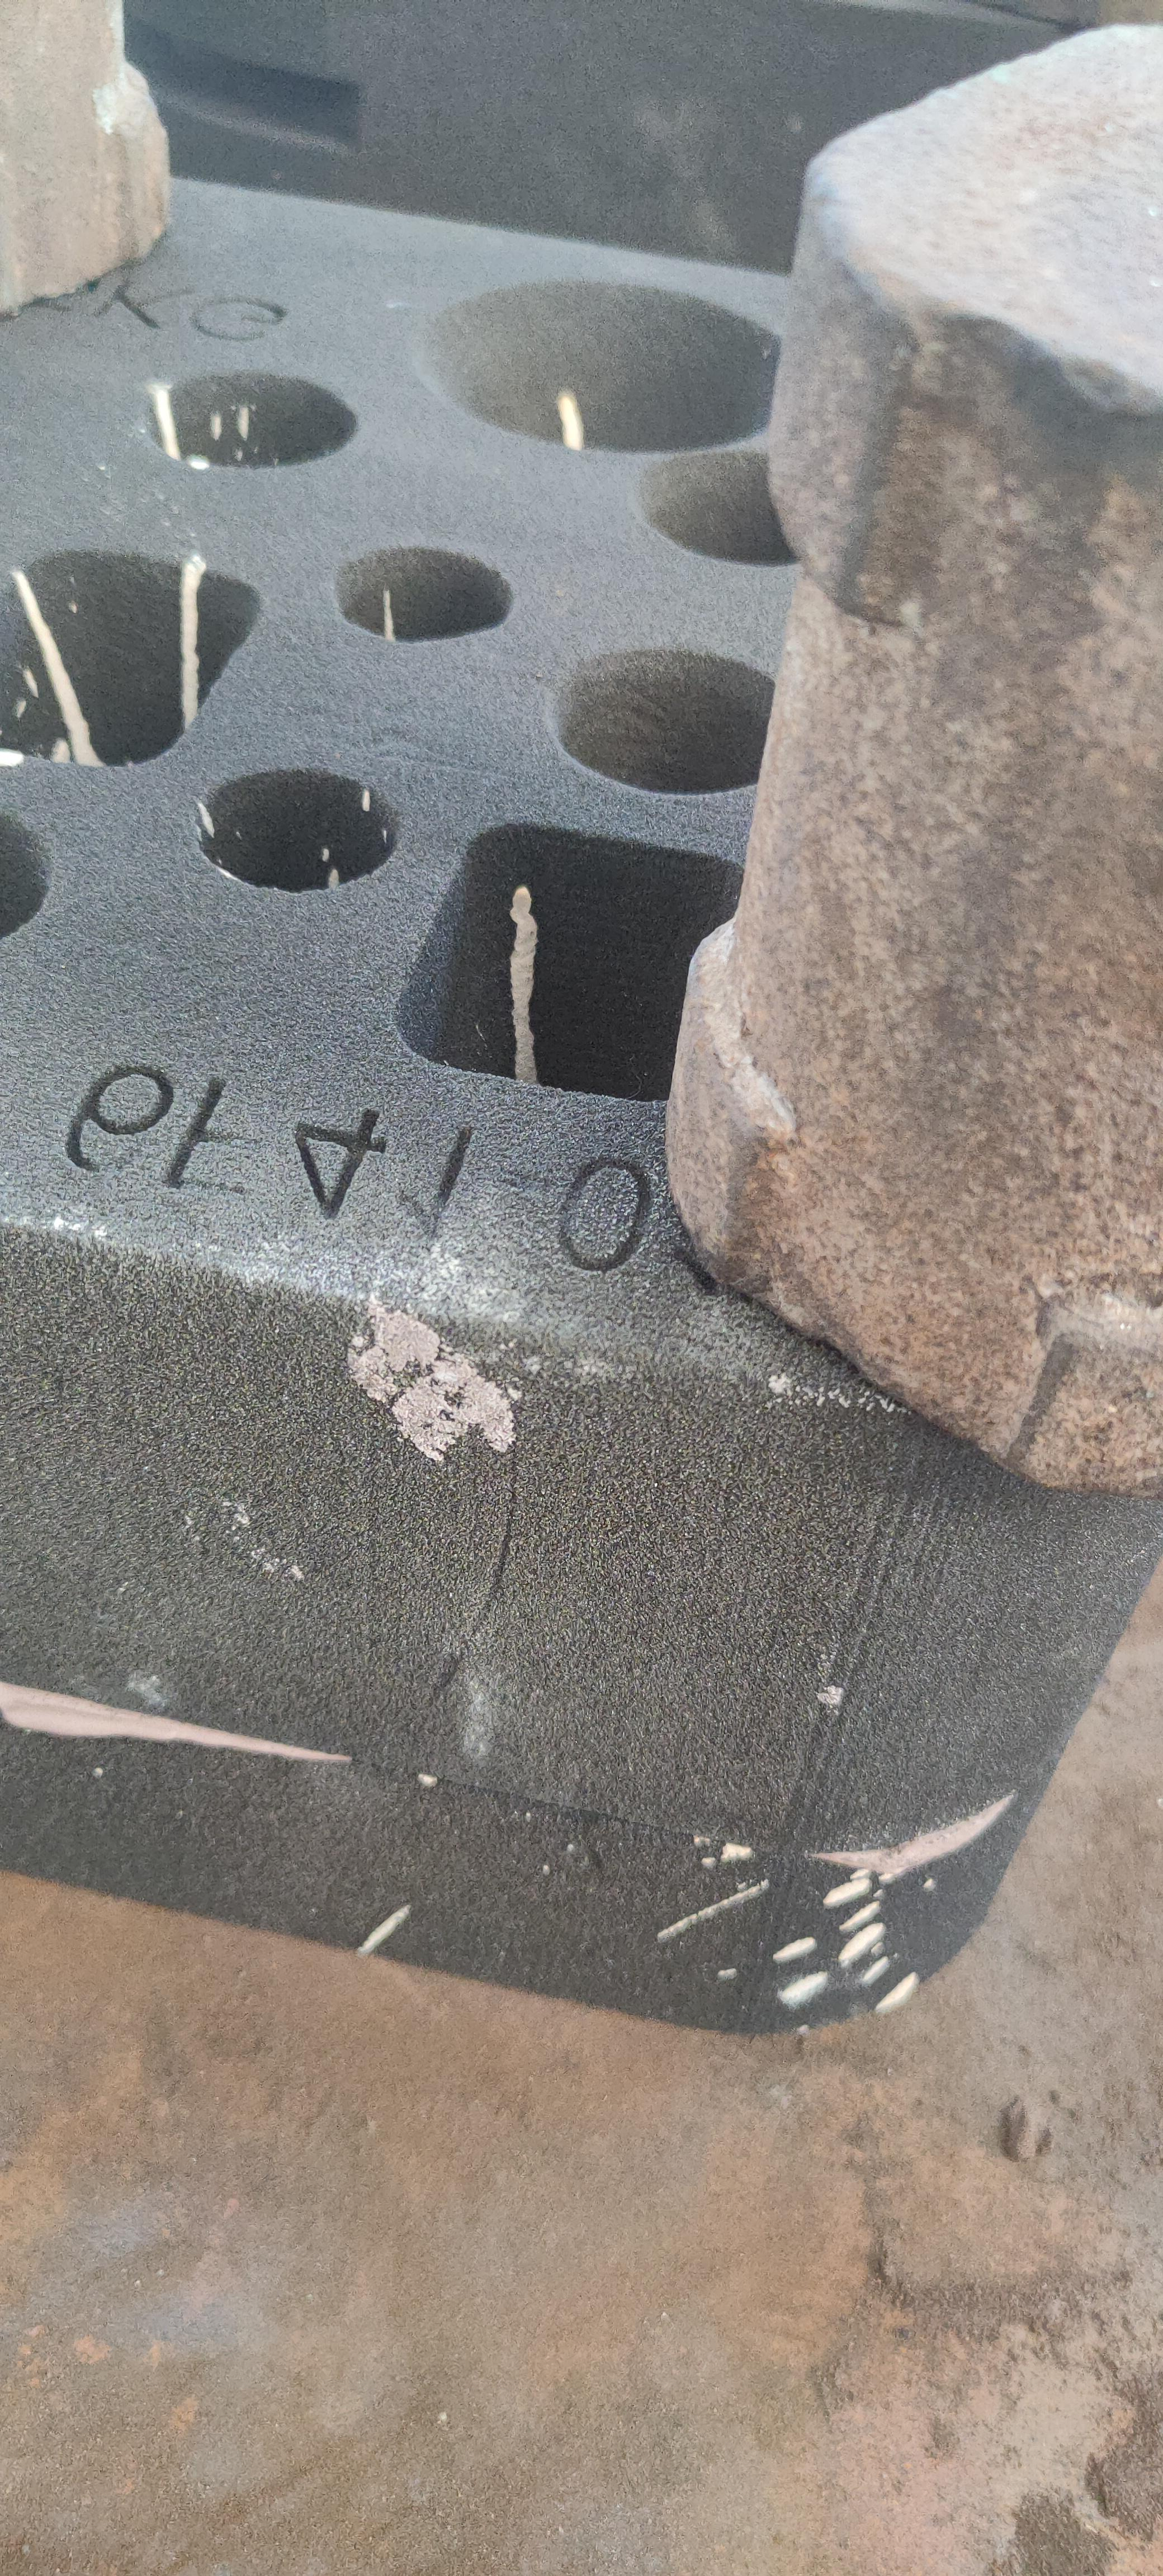pouring hole: (416, 273, 787, 457)
